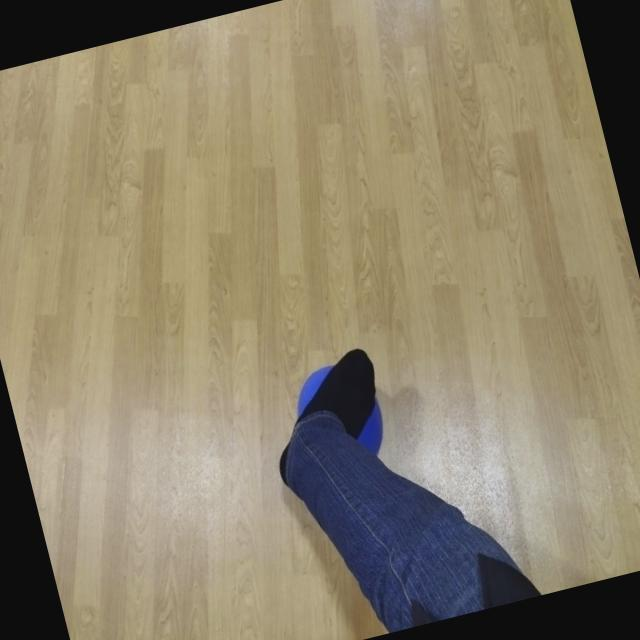blue_ball: (286, 354, 396, 481)
